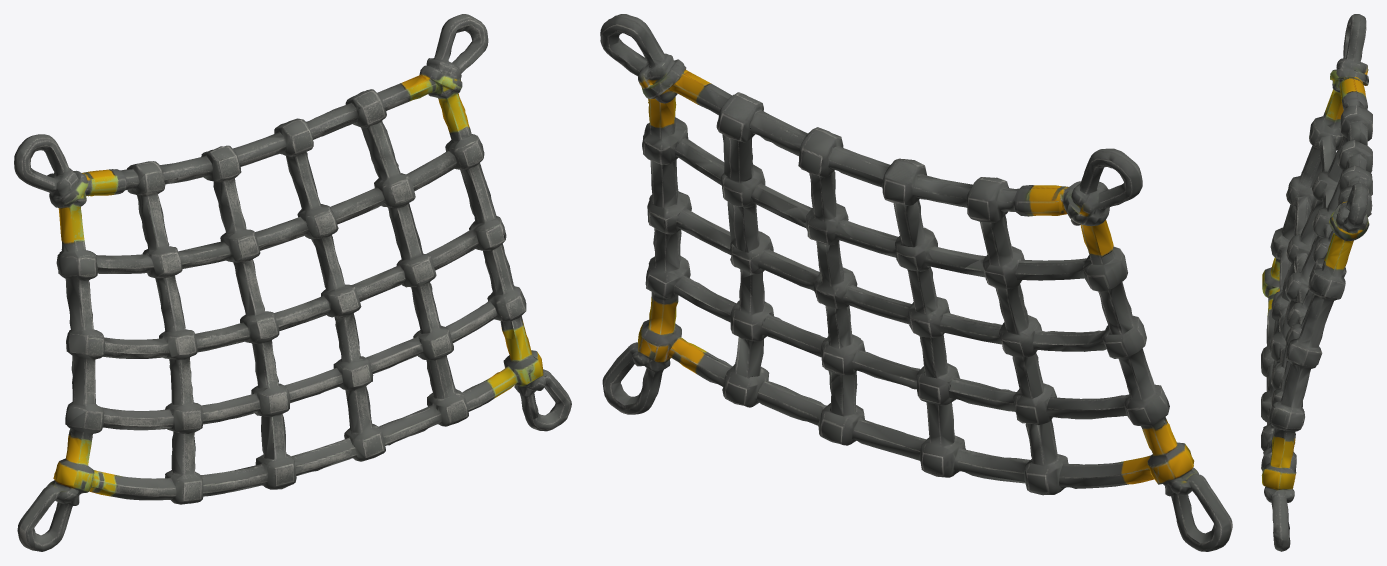
File: 20_debris_cargo_net.fbx
3 views of the same model, side by side, from view 1: azimuth 30°, elevation 25°; view 2: azimuth 150°, elevation 25°; view 3: azimuth 270°, elevation 25° (orthographic). The views are drawn at different scales.
Parts seen in each view (by area): view 1: 20_debris_cargo_net; view 2: 20_debris_cargo_net; view 3: 20_debris_cargo_net.
Part boxes in pixels (x1=…): 20_debris_cargo_net: x1=14, y1=14, x2=571, y2=551; 20_debris_cargo_net: x1=600, y1=14, x2=1232, y2=551; 20_debris_cargo_net: x1=1261, y1=14, x2=1372, y2=551.
Bounding box in the file's own units: 1.8 × 1.22 × 0.3589.
1 material, 1 textured.
